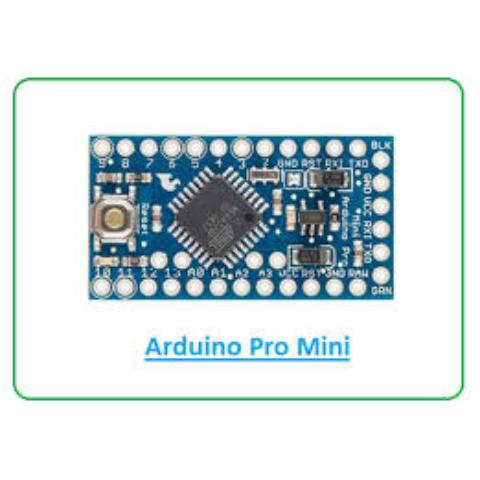Arduino-Pro-Mini: (76, 117, 422, 321)
